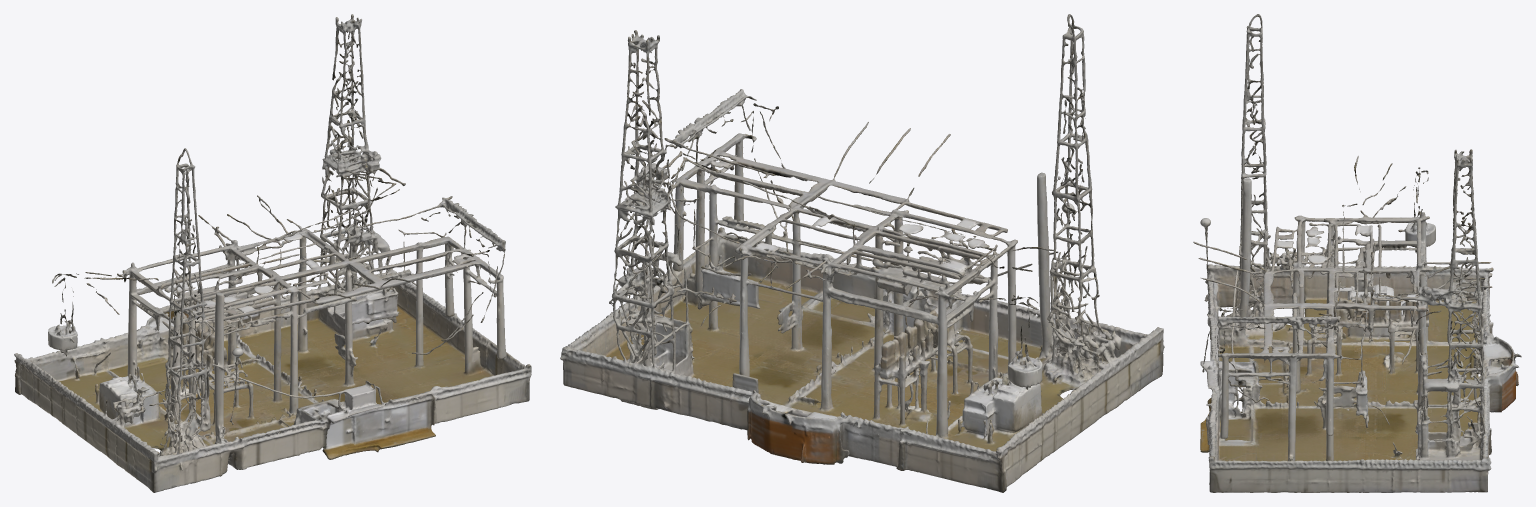
Rendered from Jeros.glb.
3 views of the same model, side by side, from view 1: azimuth 30°, elevation 25°; view 2: azimuth 150°, elevation 25°; view 3: azimuth 270°, elevation 25° (orthographic). The views are drawn at different scales.
Bounding box in the file's own units: 2 × 1.63 × 1.47.
Materials: 1 (1 with a texture image).
